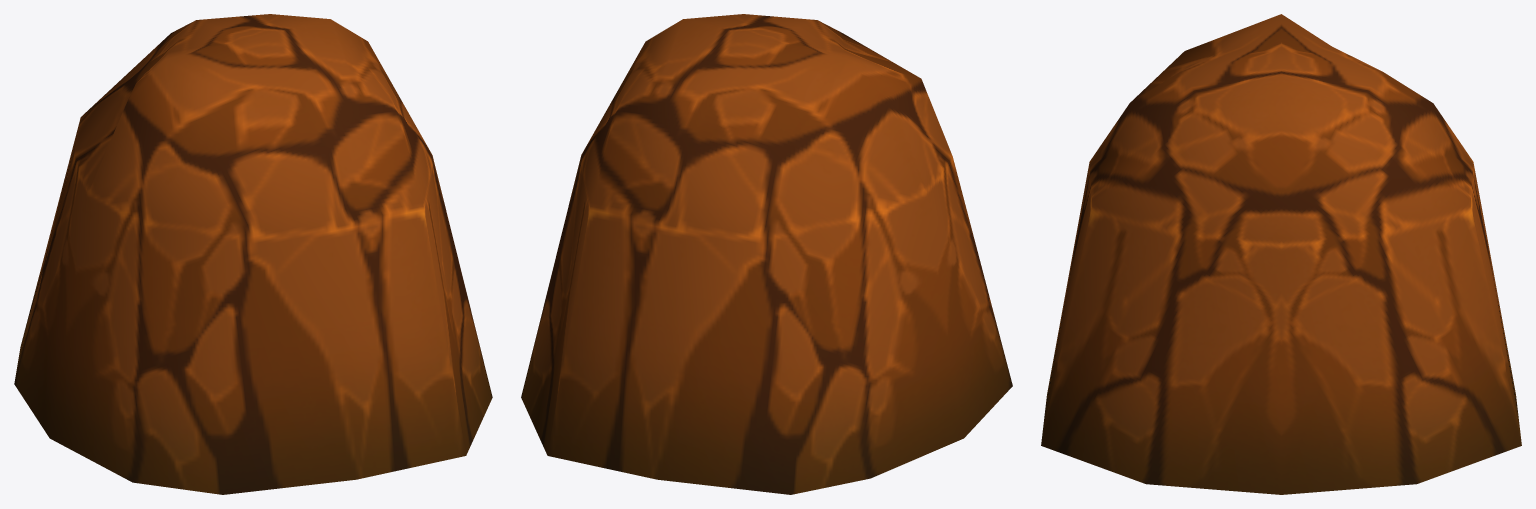
Rendered from Rock_01.FBX.
3 renders of one model, left to right at view 1: azimuth 30°, elevation 25°; view 2: azimuth 150°, elevation 25°; view 3: azimuth 270°, elevation 25°, orthographic.
Visible parts, largest first — view 1: Rock_01; view 2: Rock_01; view 3: Rock_01.
Boxes of the visible parts, x1,y1,x2,y2 form: Rock_01: [14, 14, 492, 494]; Rock_01: [521, 14, 1012, 494]; Rock_01: [1041, 14, 1521, 494].
Size of the model in its own units: 200 by 169 by 213.
